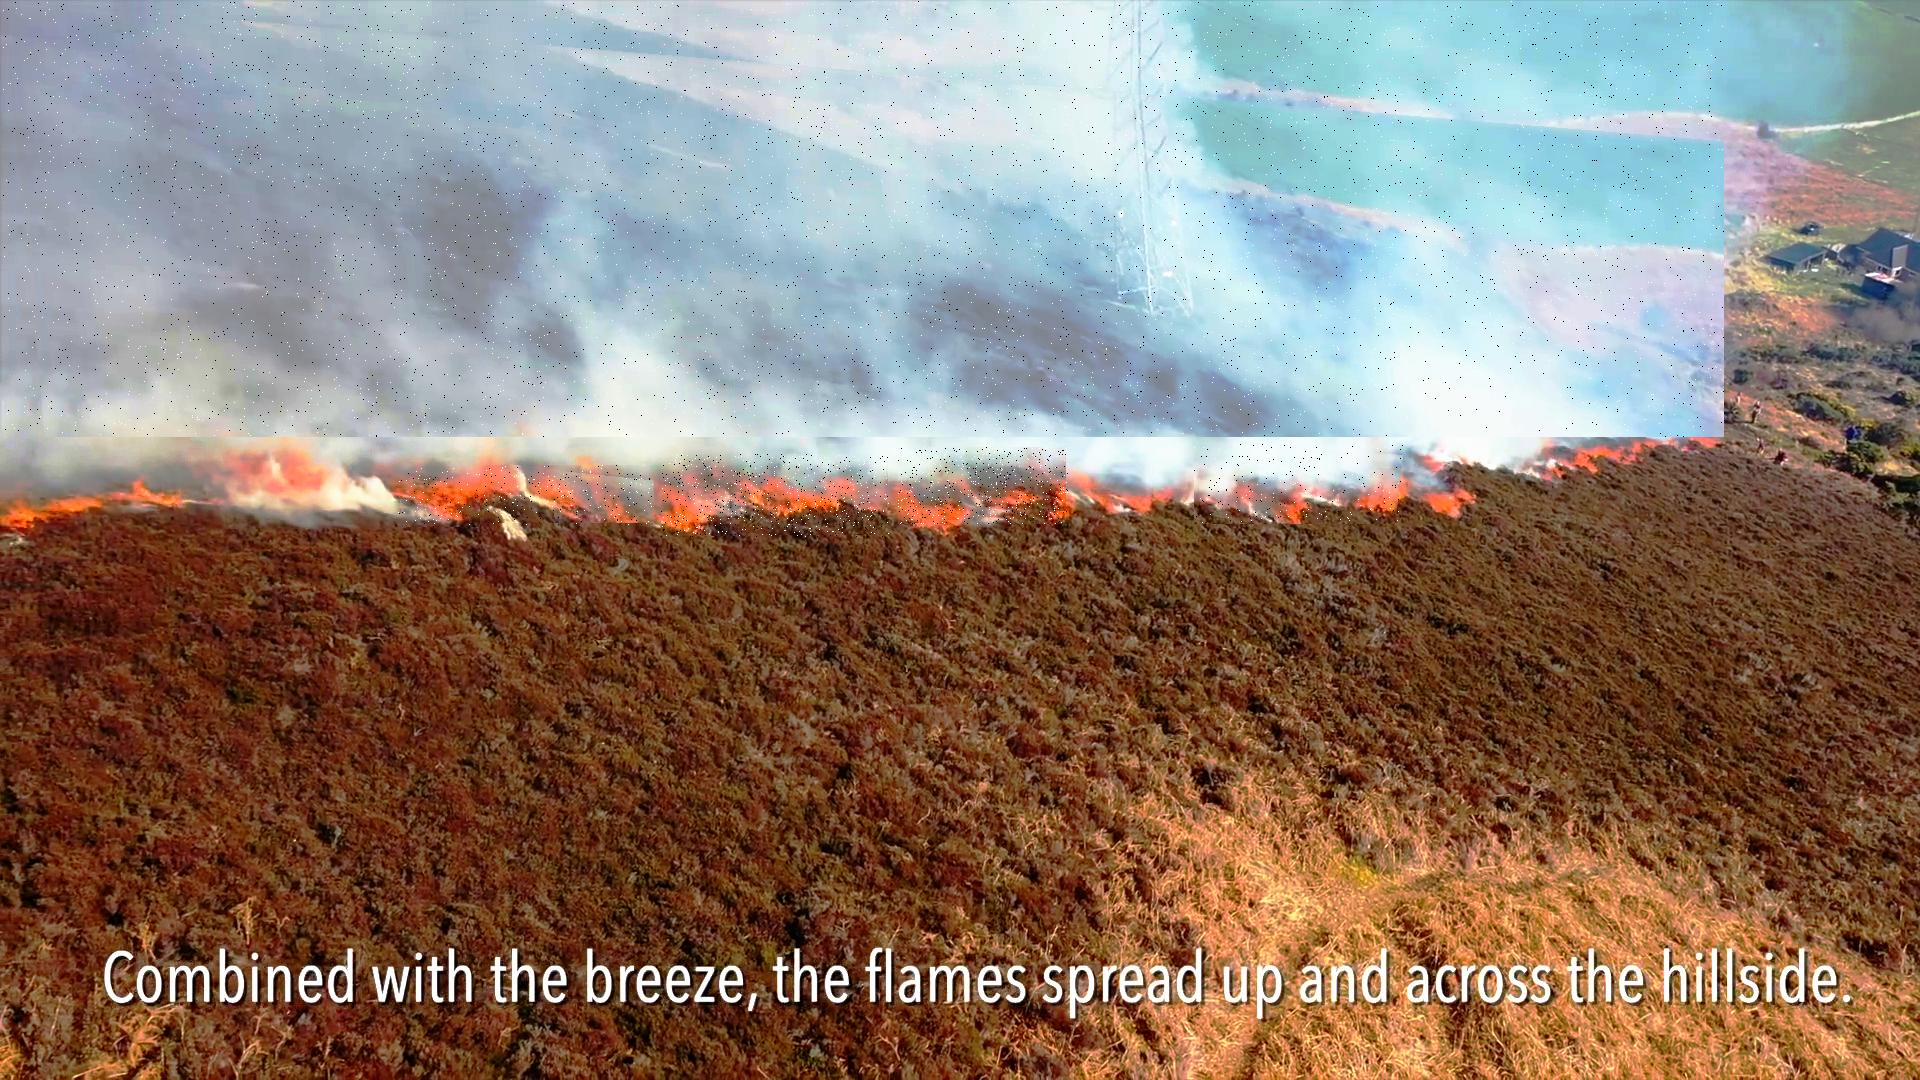fire: (661, 454, 889, 537), (1194, 444, 1403, 524), (899, 447, 1069, 524), (484, 466, 654, 526), (397, 467, 480, 527)
smoke: (3, 1, 1724, 437)
